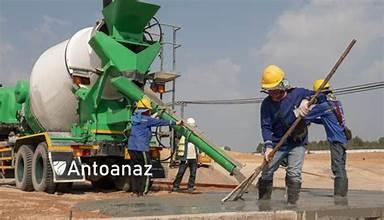Helmet: (257, 62, 288, 91), (135, 94, 154, 114), (313, 77, 334, 95), (183, 115, 200, 128)
Person: (250, 57, 306, 208), (309, 70, 351, 207), (126, 89, 178, 199), (178, 110, 203, 193)
no-vest: (262, 93, 304, 147), (318, 101, 348, 144), (128, 115, 155, 152), (178, 131, 199, 162)
